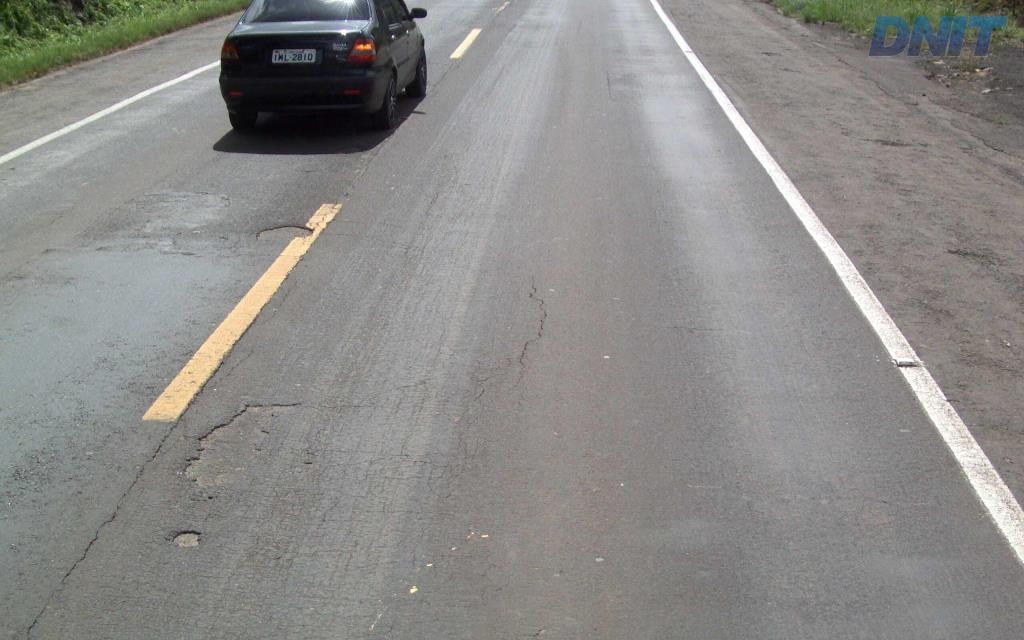crack: (513, 292, 547, 387)
pothole: (172, 397, 309, 496), (162, 519, 211, 552)
